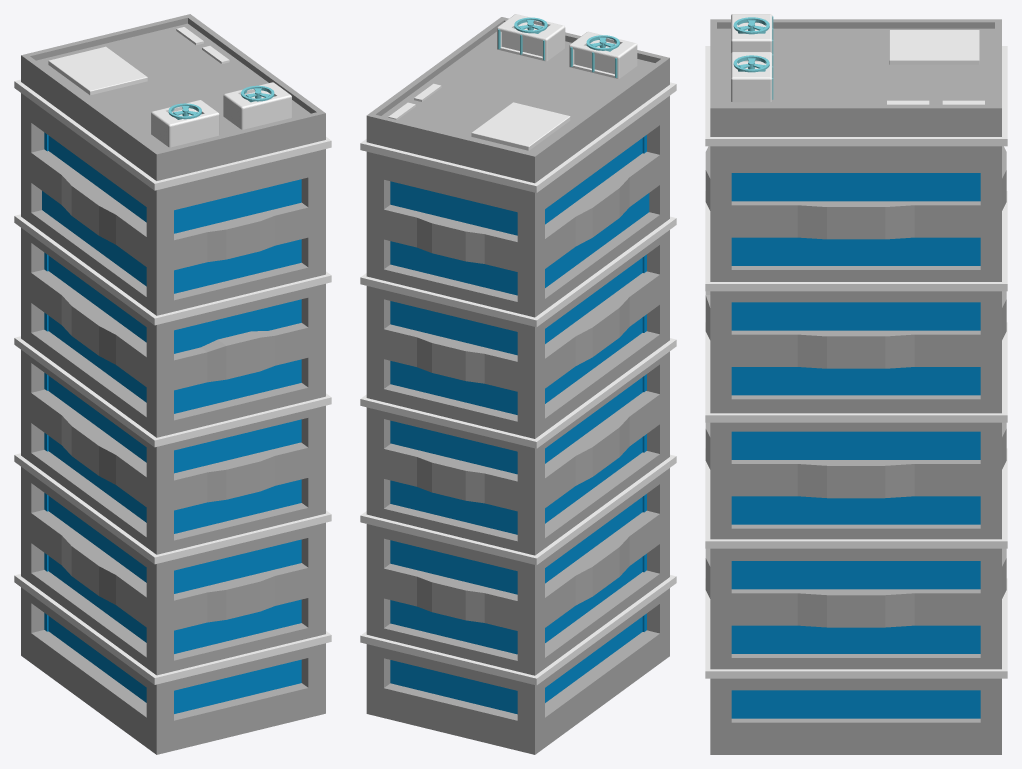
The model's file is Skyscrapper2.fbx.
3 views of the same model, side by side, from view 1: azimuth 30°, elevation 25°; view 2: azimuth 150°, elevation 25°; view 3: azimuth 270°, elevation 25° (orthographic). The views are drawn at different scales.
Visible parts, largest first — view 1: Skyscrapper2; view 2: Skyscrapper2; view 3: Skyscrapper2.
Part boxes in pixels (x1,y1,x2,y2): Skyscrapper2: [14, 14, 331, 754]; Skyscrapper2: [360, 14, 676, 754]; Skyscrapper2: [705, 14, 1007, 754].
Size of the model in its own units: 42.08 by 141 by 57.8.
